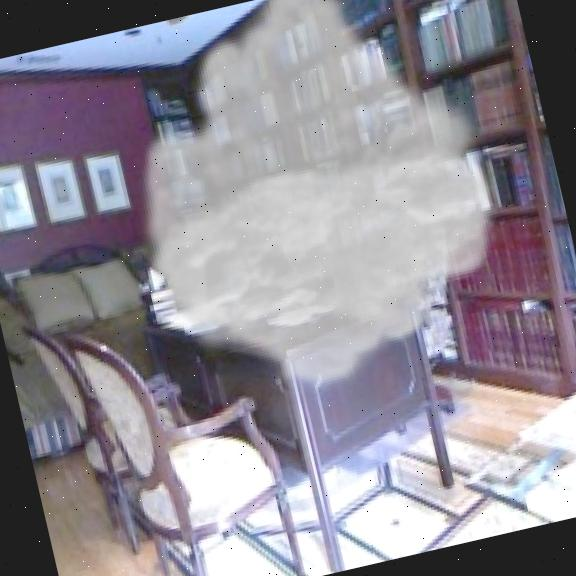smoke: (88, 0, 537, 425)
